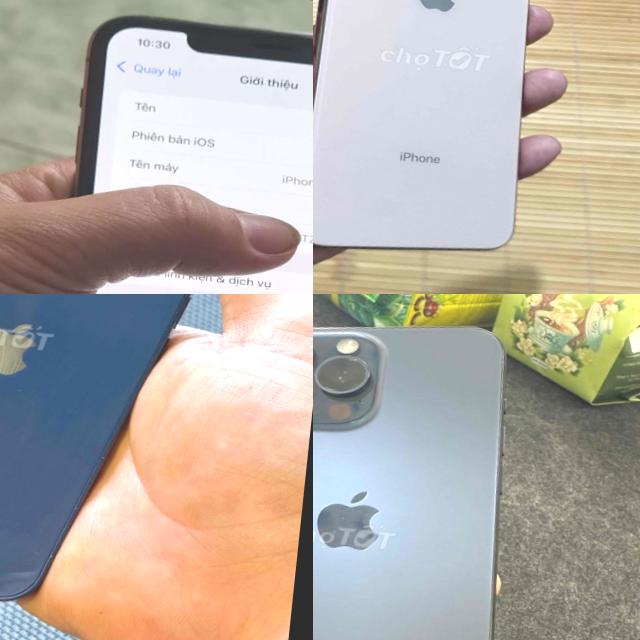gen_11: (16, 0, 313, 294)
gen_12_13: (0, 294, 275, 625)
gen_15: (313, 305, 548, 640)
gen_x_xs: (313, 0, 554, 276)
